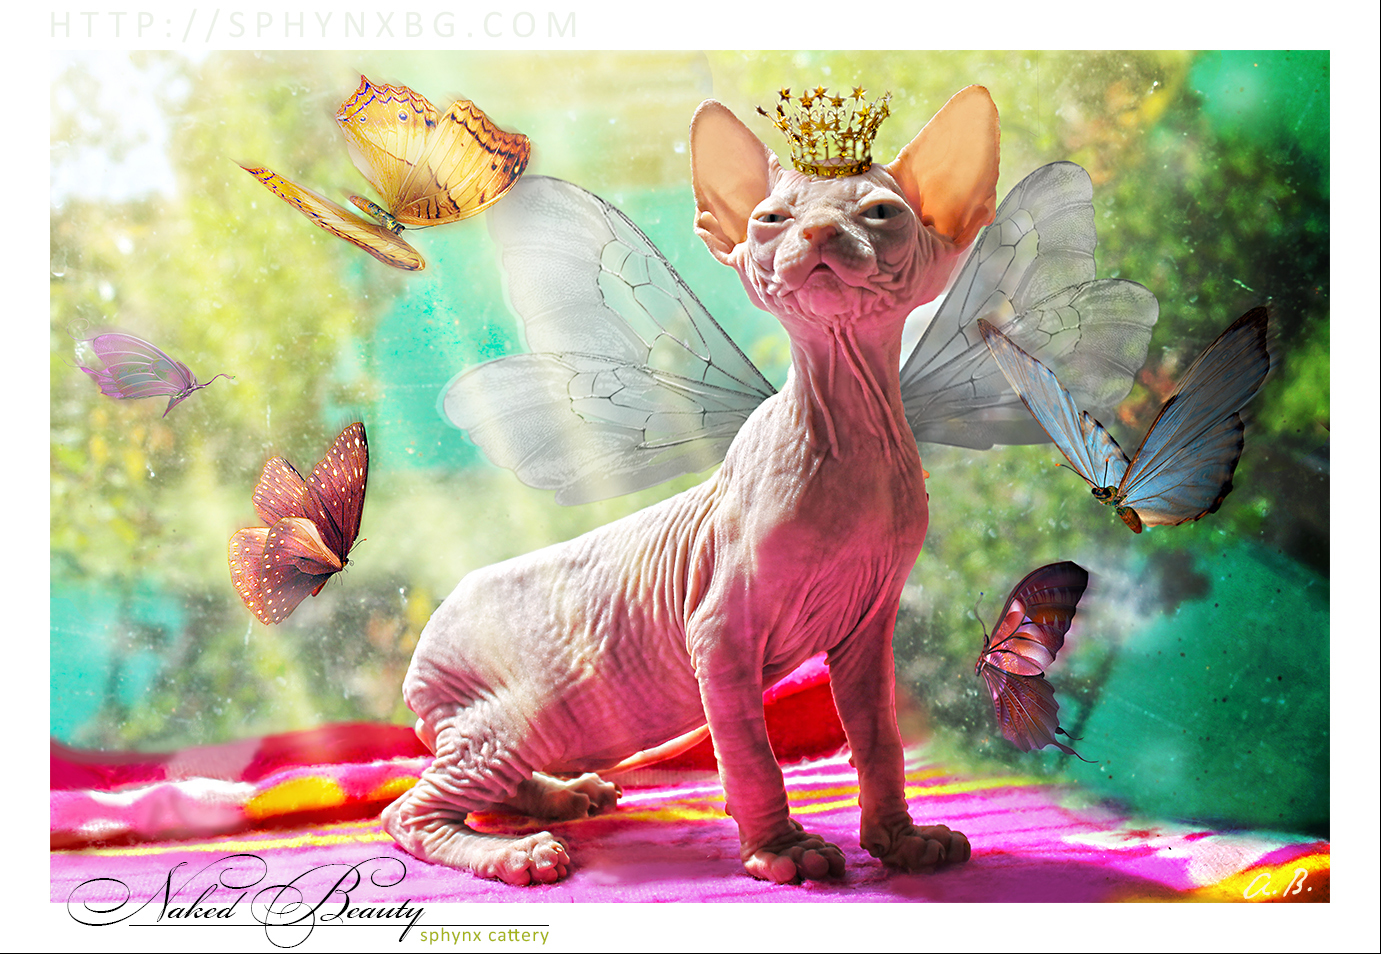Sphynx: (275, 93, 1103, 912)
